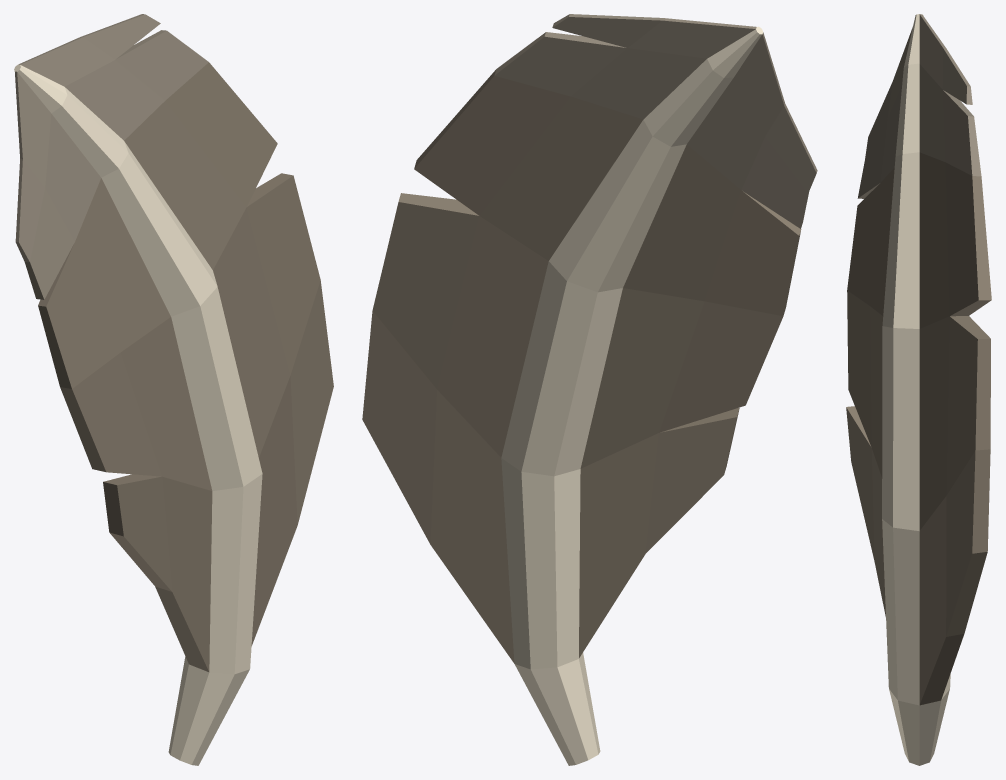
3 renders of one model, left to right at view 1: azimuth 30°, elevation 25°; view 2: azimuth 150°, elevation 25°; view 3: azimuth 270°, elevation 25°, orthographic. The views are drawn at different scales.
Visible parts, largest first — view 1: Feather, Stem, Feather Highlight; view 2: Feather, Stem, Feather Highlight; view 3: Feather, Stem, Feather Highlight.
Boxes of the visible parts, x1,y1,x2,y2 form: Feather: (38,62,333,671); Stem: (14,64,262,765); Feather Highlight: (15,14,208,299); Feather: (362,69,801,663); Stem: (501,26,762,765); Feather Highlight: (494,14,817,228); Feather: (846,152,991,705); Stem: (882,14,950,765); Feather Highlight: (857,14,981,198).
Bounding box in the file's own units: 4.56 × 8.64 × 1.69.
